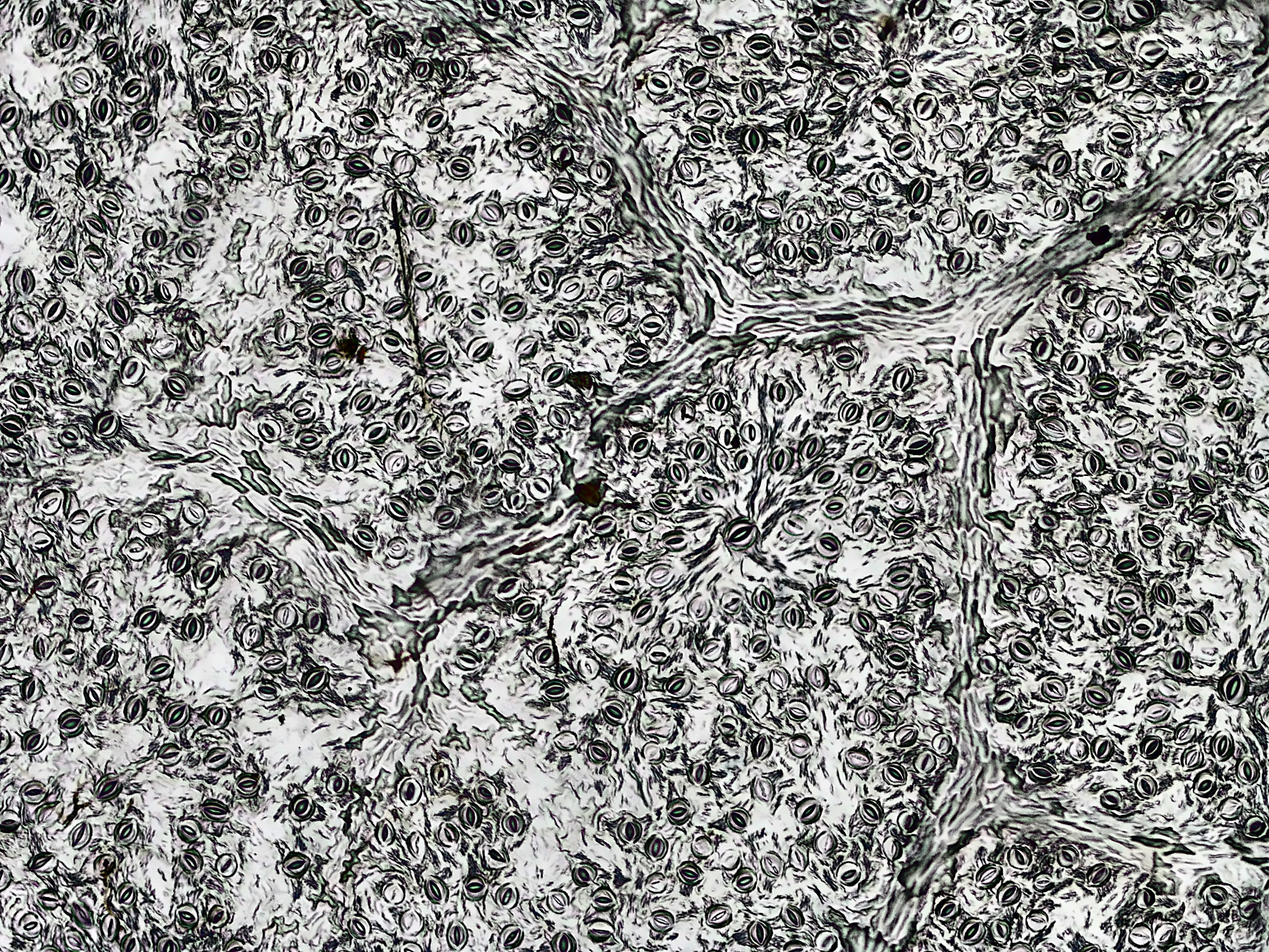stomata: (722, 517, 757, 551), (1217, 671, 1250, 707), (611, 662, 643, 695), (807, 148, 836, 180), (740, 124, 769, 154), (162, 371, 191, 401), (301, 666, 330, 695), (89, 94, 117, 124), (133, 605, 161, 635), (1008, 636, 1038, 664), (661, 673, 692, 700), (194, 557, 220, 589), (1210, 728, 1234, 762), (75, 158, 103, 187), (145, 654, 174, 682), (51, 99, 76, 131), (1036, 416, 1069, 440), (389, 150, 417, 178), (963, 163, 991, 191), (1146, 289, 1174, 317), (794, 796, 822, 824), (129, 110, 158, 137), (331, 443, 358, 472), (799, 433, 826, 462), (745, 34, 775, 60), (1234, 756, 1260, 786), (767, 445, 793, 475), (686, 435, 712, 465), (281, 853, 311, 879), (830, 346, 861, 371), (30, 199, 57, 227), (1157, 234, 1184, 262), (1096, 295, 1124, 322), (93, 410, 120, 438), (203, 702, 231, 729), (164, 700, 191, 728), (94, 774, 122, 801), (288, 793, 315, 821), (482, 842, 509, 870), (120, 357, 146, 386), (706, 387, 732, 416), (676, 861, 705, 887), (424, 876, 450, 905), (645, 564, 675, 589), (687, 593, 712, 623), (907, 176, 931, 207), (54, 23, 77, 55), (885, 60, 912, 87), (552, 314, 579, 341), (868, 404, 895, 431), (849, 607, 876, 634), (22, 146, 50, 172), (1140, 40, 1168, 66), (1211, 252, 1237, 280), (499, 295, 527, 321), (73, 336, 99, 364), (349, 388, 377, 414), (769, 377, 795, 405), (350, 109, 379, 134), (345, 152, 374, 177), (754, 197, 783, 222), (273, 601, 298, 630), (384, 496, 413, 521), (667, 796, 692, 825), (643, 832, 668, 861), (197, 105, 221, 135), (415, 437, 445, 461), (180, 613, 204, 643), (446, 156, 477, 179), (694, 100, 725, 123), (257, 650, 288, 673), (1114, 438, 1145, 461), (27, 851, 59, 873), (446, 919, 468, 951), (421, 107, 448, 133), (513, 134, 540, 160), (476, 199, 503, 225), (889, 133, 916, 159), (411, 264, 437, 291), (175, 237, 202, 263), (59, 378, 86, 404), (36, 489, 63, 515), (1237, 206, 1264, 232), (958, 918, 985, 944), (627, 432, 653, 459), (630, 598, 657, 624), (497, 923, 524, 949), (586, 917, 613, 943), (181, 203, 209, 228), (913, 92, 938, 120), (940, 123, 965, 151), (465, 337, 493, 362), (541, 362, 569, 387), (107, 296, 132, 324), (302, 607, 327, 635), (822, 494, 850, 519), (615, 538, 643, 563), (67, 822, 92, 850), (810, 830, 838, 855), (732, 865, 757, 893), (463, 874, 488, 902), (399, 908, 424, 936), (1104, 66, 1133, 90), (971, 209, 995, 238), (1089, 375, 1118, 399), (123, 694, 147, 723), (1159, 423, 1188, 447), (1083, 684, 1112, 708), (751, 585, 775, 614), (19, 780, 48, 804), (202, 747, 231, 771), (1141, 700, 1171, 723), (694, 36, 725, 58), (306, 323, 337, 345), (293, 428, 324, 450), (1028, 762, 1059, 784), (783, 601, 805, 632), (410, 204, 436, 230), (559, 275, 585, 301), (1185, 610, 1211, 636), (1192, 771, 1218, 797), (684, 66, 711, 91), (603, 301, 630, 326), (814, 533, 841, 558), (1172, 274, 1197, 301), (852, 456, 877, 483), (813, 465, 840, 490), (717, 671, 744, 696), (705, 904, 732, 929), (687, 125, 715, 149), (828, 27, 856, 51), (1128, 89, 1156, 113), (451, 218, 475, 246), (167, 548, 191, 576), (902, 431, 930, 455), (1168, 644, 1192, 672), (1041, 713, 1073, 734), (750, 733, 774, 761), (381, 878, 405, 906), (648, 909, 676, 933), (345, 67, 368, 96), (785, 111, 808, 140), (421, 345, 450, 368), (13, 267, 36, 296), (1032, 334, 1055, 363), (1112, 552, 1141, 575), (1047, 607, 1076, 630), (845, 747, 874, 770), (496, 882, 519, 911), (121, 78, 146, 104), (98, 192, 124, 217), (1108, 122, 1134, 147), (1043, 195, 1068, 221), (839, 186, 865, 211), (369, 255, 395, 280), (1151, 448, 1177, 473), (1041, 676, 1067, 701), (1217, 796, 1243, 821), (997, 880, 1022, 906), (113, 820, 138, 846), (603, 700, 628, 726), (68, 66, 92, 93), (202, 59, 226, 86), (188, 26, 215, 50), (226, 86, 250, 113), (336, 206, 363, 230), (825, 219, 849, 246), (143, 224, 167, 251), (248, 558, 272, 585), (424, 374, 451, 398), (384, 449, 408, 476), (289, 400, 316, 424), (240, 623, 264, 650), (497, 449, 524, 473), (432, 506, 459, 530), (839, 399, 863, 426), (1152, 580, 1176, 607), (1090, 735, 1114, 762), (883, 645, 910, 669), (806, 664, 830, 691), (20, 677, 44, 704), (21, 729, 48, 753), (59, 710, 83, 737), (760, 850, 784, 877), (742, 77, 765, 105), (1016, 53, 1044, 76), (1211, 182, 1239, 205), (1204, 337, 1232, 360), (859, 798, 882, 826), (618, 814, 641, 842), (541, 235, 570, 257), (301, 287, 330, 309), (502, 378, 531, 400), (889, 516, 918, 538), (540, 679, 569, 701), (970, 80, 1000, 101), (659, 530, 689, 551), (399, 777, 420, 807), (96, 37, 121, 62), (1003, 17, 1028, 42), (1183, 70, 1208, 95), (527, 476, 552, 501), (1007, 845, 1032, 870), (750, 776, 775, 801), (836, 861, 861, 886), (592, 887, 617, 912), (346, 915, 371, 940), (188, 174, 212, 200), (550, 143, 574, 169), (587, 159, 611, 185), (1128, 0, 1154, 24), (935, 208, 959, 234), (948, 248, 972, 274), (868, 229, 892, 255), (773, 239, 797, 265), (599, 266, 623, 292), (324, 255, 348, 281), (151, 333, 177, 357), (512, 597, 538, 621), (1115, 588, 1141, 612), (976, 864, 1002, 888), (935, 896, 959, 922), (547, 404, 571, 430), (693, 482, 719, 506), (204, 799, 230, 823), (174, 903, 198, 929), (786, 60, 813, 83), (1047, 150, 1070, 177), (493, 238, 520, 261), (156, 277, 179, 304), (83, 245, 106, 272), (38, 342, 65, 365), (10, 380, 37, 403), (362, 421, 389, 444), (81, 572, 108, 595), (442, 412, 469, 435), (469, 438, 492, 465), (1065, 544, 1092, 567), (739, 418, 762, 445), (70, 901, 93, 928), (590, 633, 617, 656), (473, 624, 496, 651), (81, 5, 103, 33), (145, 42, 167, 70), (566, 5, 594, 27), (549, 178, 577, 200), (1094, 27, 1122, 49), (887, 621, 915, 643), (254, 679, 283, 700), (226, 156, 250, 181), (82, 214, 107, 238), (996, 124, 1021, 148), (1061, 352, 1086, 376), (1063, 283, 1088, 307), (640, 313, 665, 337), (393, 408, 417, 433), (273, 319, 297, 344), (257, 417, 282, 441), (1218, 397, 1243, 421), (1138, 524, 1163, 548), (1130, 615, 1154, 640), (894, 724, 919, 748), (1086, 863, 1111, 887), (1128, 923, 1153, 947), (874, 588, 899, 612), (890, 489, 915, 513), (20, 912, 44, 937), (179, 847, 203, 872), (459, 803, 483, 828), (532, 642, 556, 667), (688, 760, 712, 785), (788, 733, 812, 758), (725, 808, 750, 832), (573, 862, 597, 887), (286, 46, 309, 72), (869, 96, 892, 122), (580, 214, 606, 237), (354, 227, 380, 250), (11, 310, 34, 336), (0, 415, 26, 438), (886, 566, 912, 589), (649, 491, 675, 514), (749, 920, 772, 946), (33, 576, 60, 598), (1083, 451, 1105, 478), (1054, 845, 1081, 867), (588, 606, 615, 628), (185, 319, 204, 350), (791, 18, 819, 39), (832, 71, 861, 91), (1187, 504, 1216, 524), (316, 137, 340, 161), (949, 19, 973, 43), (54, 249, 78, 273), (671, 400, 695, 424), (1110, 647, 1134, 671), (748, 634, 772, 658), (855, 706, 879, 730), (502, 813, 526, 837), (546, 889, 570, 913), (234, 127, 259, 150), (646, 71, 671, 94), (676, 157, 701, 180), (1051, 28, 1076, 51), (1094, 157, 1119, 180), (716, 211, 741, 234), (532, 266, 555, 291), (341, 287, 364, 312), (384, 297, 409, 320), (42, 297, 65, 322), (124, 537, 149, 560), (415, 479, 438, 504), (786, 699, 811, 722), (715, 424, 738, 449), (659, 615, 682, 640), (699, 638, 724, 661), (157, 743, 182, 766), (326, 772, 349, 797), (779, 905, 804, 928), (251, 15, 277, 37), (0, 444, 26, 466), (96, 644, 118, 670), (83, 682, 105, 708), (512, 415, 538, 437), (1210, 367, 1236, 389), (1112, 414, 1138, 436), (1111, 471, 1137, 493), (892, 365, 914, 391), (990, 918, 1012, 944), (100, 912, 119, 942), (28, 3, 49, 30), (301, 169, 328, 190), (881, 763, 908, 784), (915, 749, 936, 776), (623, 343, 651, 363), (1116, 344, 1144, 364), (407, 831, 427, 859), (306, 204, 329, 228), (411, 58, 434, 82), (1202, 214, 1226, 237), (514, 335, 537, 359), (58, 424, 82, 447), (183, 501, 206, 525), (353, 524, 377, 547), (1161, 329, 1184, 353), (1103, 612, 1126, 636), (1181, 745, 1204, 769), (633, 510, 657, 533), (63, 929, 87, 952), (588, 740, 611, 764), (259, 48, 281, 73), (68, 510, 90, 535), (70, 609, 95, 631), (57, 639, 79, 664), (1165, 366, 1190, 388), (666, 460, 688, 485), (385, 36, 406, 62), (782, 514, 808, 535), (1069, 89, 1096, 109), (317, 352, 344, 372), (1146, 488, 1173, 508), (789, 844, 809, 871), (375, 819, 395, 846), (25, 532, 53, 551), (290, 256, 313, 279), (720, 591, 743, 614), (475, 780, 498, 803), (515, 198, 537, 222), (866, 172, 890, 194), (1175, 204, 1197, 228), (126, 272, 148, 296), (993, 690, 1015, 714), (998, 575, 1020, 599), (610, 572, 634, 594), (179, 819, 201, 843), (577, 656, 599, 680), (436, 291, 457, 316), (99, 332, 120, 357), (1188, 473, 1213, 494), (1155, 676, 1180, 697), (769, 665, 790, 690), (591, 516, 616, 537), (429, 762, 450, 787), (291, 143, 311, 169), (814, 586, 840, 606), (420, 28, 447, 47), (1178, 397, 1205, 416), (1069, 495, 1096, 514), (445, 57, 467, 80), (466, 303, 489, 325), (381, 330, 404, 352), (137, 514, 160, 536), (385, 536, 407, 559), (1174, 721, 1196, 744), (1245, 815, 1267, 838), (1205, 885, 1228, 907), (94, 854, 116, 877), (215, 854, 237, 877), (436, 823, 459, 845), (896, 811, 918, 834), (1087, 525, 1111, 546), (1140, 736, 1161, 760), (1136, 774, 1157, 798), (911, 586, 935, 607), (36, 888, 60, 909), (208, 904, 229, 928), (691, 834, 712, 858), (822, 94, 847, 114), (34, 633, 54, 658), (852, 512, 872, 537), (733, 450, 753, 475), (116, 881, 136, 906), (1010, 79, 1036, 98), (1207, 307, 1233, 326), (903, 458, 930, 476), (802, 241, 824, 263), (1211, 441, 1233, 463), (1100, 788, 1122, 810), (931, 733, 953, 755), (1052, 63, 1075, 84), (1081, 189, 1102, 212), (444, 471, 465, 494), (1025, 583, 1048, 604), (1027, 557, 1050, 578), (648, 643, 671, 664), (1040, 110, 1070, 126), (788, 212, 812, 232), (1038, 393, 1062, 413), (752, 694, 772, 718), (1030, 453, 1056, 471), (745, 251, 766, 273), (478, 273, 499, 295), (1026, 910, 1048, 931), (717, 714, 739, 735), (237, 776, 259, 797), (555, 730, 577, 751), (1247, 461, 1267, 484), (1036, 511, 1059, 531), (1069, 738, 1089, 761), (479, 485, 503, 504), (883, 836, 902, 860), (1173, 541, 1195, 561), (884, 691, 906, 711), (645, 873, 667, 893), (1141, 263, 1160, 286), (1135, 887, 1155, 908), (1012, 711, 1032, 732), (554, 103, 573, 125), (1238, 281, 1260, 300), (455, 651, 479, 668), (1033, 872, 1053, 892), (978, 654, 998, 673), (509, 491, 527, 510), (1007, 193, 1028, 209)
